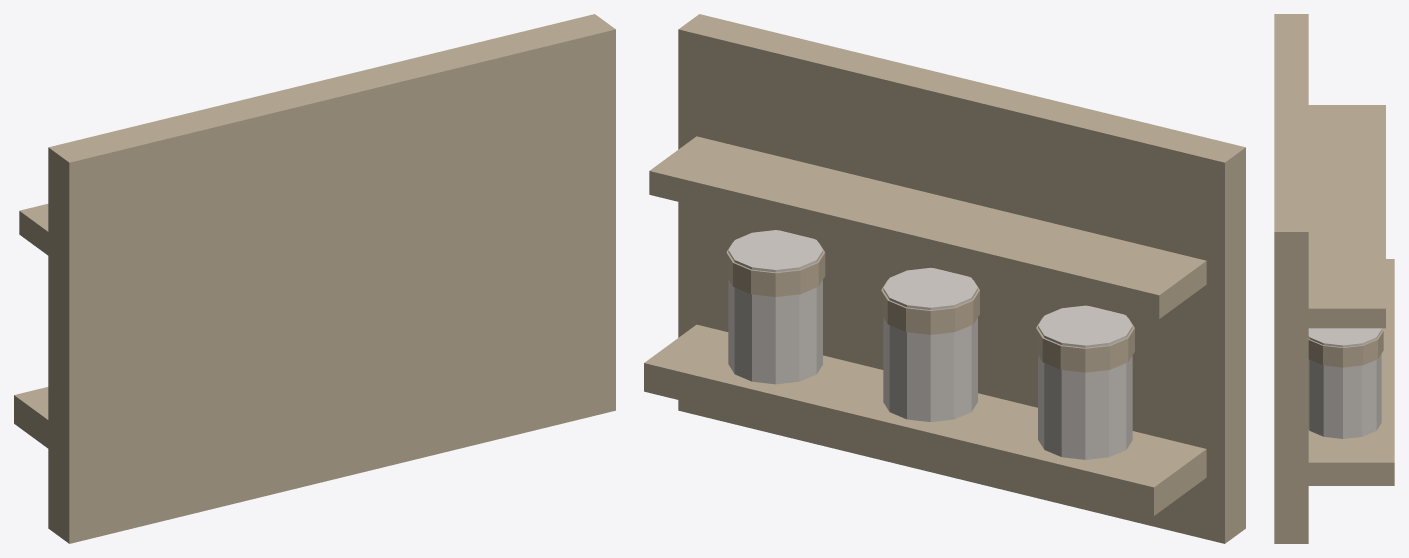
File: parede_porta_temperos2.glb
The picture shows the model from 3 angles, left to right: view 1: azimuth 30°, elevation 25°; view 2: azimuth 150°, elevation 25°; view 3: azimuth 270°, elevation 25°; orthographic projection. The views are drawn at different scales.
Visible parts, largest first — view 1: PAREDE_PORTA_TEMPEROS2_v01; view 2: PAREDE_PORTA_TEMPEROS2_v01; view 3: PAREDE_PORTA_TEMPEROS2_v01.
Part boxes in pixels (left/top/right/bottom): PAREDE_PORTA_TEMPEROS2_v01: left=14, top=14, right=615, bottom=543; PAREDE_PORTA_TEMPEROS2_v01: left=644, top=14, right=1245, bottom=543; PAREDE_PORTA_TEMPEROS2_v01: left=1274, top=14, right=1394, bottom=543.
Size of the model in its own units: 0.6 by 0.4 by 0.14.
